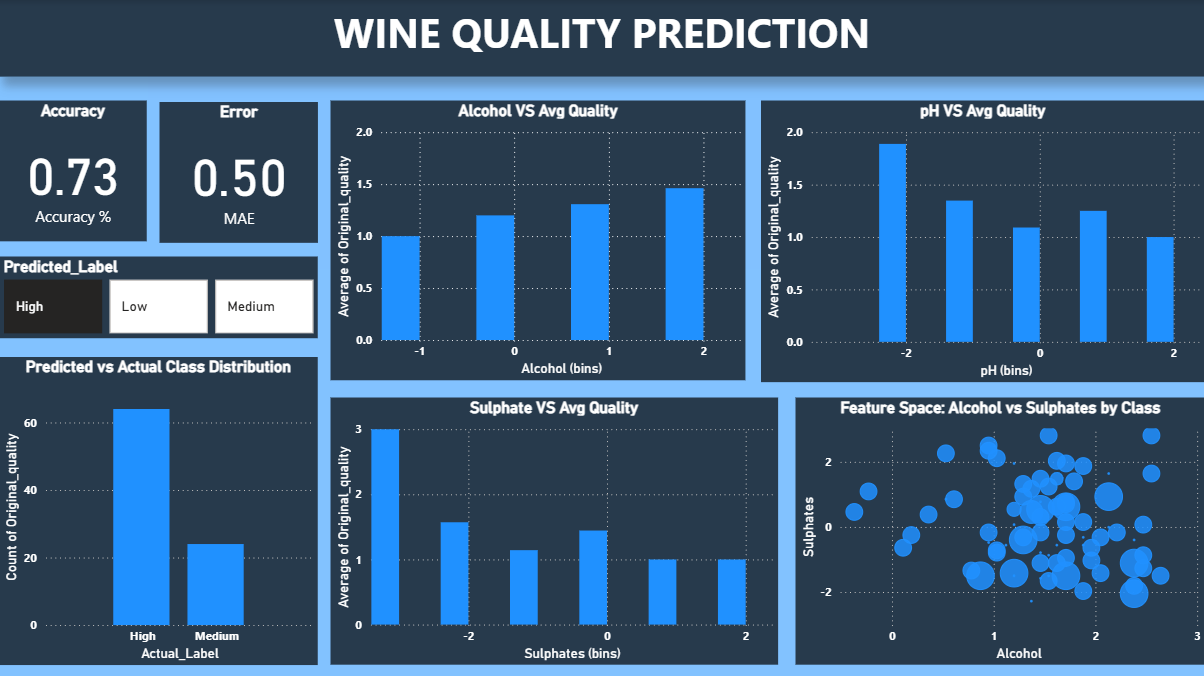

This screenshot's page, from the dashboard's own definition file:
{"tool":"powerbi","page":{"name":"Dashboard","canvas":[1280,720],"ordinal":0},"visuals":[{"type":"textbox","box":[0,0,1279.4,81.3],"z":0},{"type":"card","title":"Accuracy","fields":{"Values":["WineData.Accuracy %"]},"box":[0,105.8,156.9,149.3],"z":1000},{"type":"card","title":"Error","fields":{"Values":["WineData.MAE"]},"box":[170.1,107.7,168.2,149.3],"z":2000},{"type":"columnChart","title":"Predicted vs Actual Class Distribution","fields":{"Category":["WineData.Actual_Label"],"Series":["WineData.Predicted_Label"],"Y":["CountNonNull(WineData.Original_quality)"]},"box":[0,378,338.3,326.9],"z":3000},{"type":"scatterChart","title":"Feature Space: Alcohol vs Sulphates by Class","fields":{"X":["WineData.Alcohol"],"Y":["WineData.Sulphates"],"Size":["Avg(WineData.Original_quality)"],"Series":["WineData.Predicted_Label"]},"box":[844.7,421.4,434.6,283.5],"z":4000},{"type":"advancedSlicerVisual","fields":{"Values":["WineData.Predicted_Label"]},"box":[0,272.1,338.3,86.9],"z":5000},{"type":"clusteredColumnChart","title":"Alcohol VS Avg Quality","fields":{"Y":["Avg(WineData.Original_quality)"],"Category":["WineData.Alcohol (bins)"],"Series":["WineData.Actual_Label"]},"box":[351.5,105.8,440.3,296.7],"z":6000},{"type":"clusteredColumnChart","title":"pH VS Avg Quality","fields":{"Y":["Avg(WineData.Original_quality)"],"Series":["WineData.Actual_Label"],"Category":["WineData.pH (bins)"]},"box":[808.8,105.8,470.6,298.6],"z":7000},{"type":"clusteredColumnChart","title":"Sulphate VS Avg Quality","fields":{"Y":["Avg(WineData.Original_quality)"],"Series":["WineData.Actual_Label"],"Category":["WineData.Sulphates (bins)"]},"box":[351.5,421.4,474.3,283.5],"z":8000}]}

Visuals, with their boxes in screenshot pixels (x1, y1, x2, y2), scaled from the page's 1280x720 canvas onto the 1204x676 screenshot:
textbox: <box>0,0,1203,76</box>
"Accuracy" card: <box>0,99,148,240</box>
"Error" card: <box>160,101,318,241</box>
"Predicted vs Actual Class Distribution" columnChart: <box>0,355,318,662</box>
"Feature Space: Alcohol vs Sulphates by Class" scatterChart: <box>795,396,1203,662</box>
advancedSlicerVisual - WineData.Predicted_Label: <box>0,255,318,337</box>
"Alcohol VS Avg Quality" clusteredColumnChart: <box>331,99,745,378</box>
"pH VS Avg Quality" clusteredColumnChart: <box>761,99,1203,380</box>
"Sulphate VS Avg Quality" clusteredColumnChart: <box>331,396,777,662</box>
